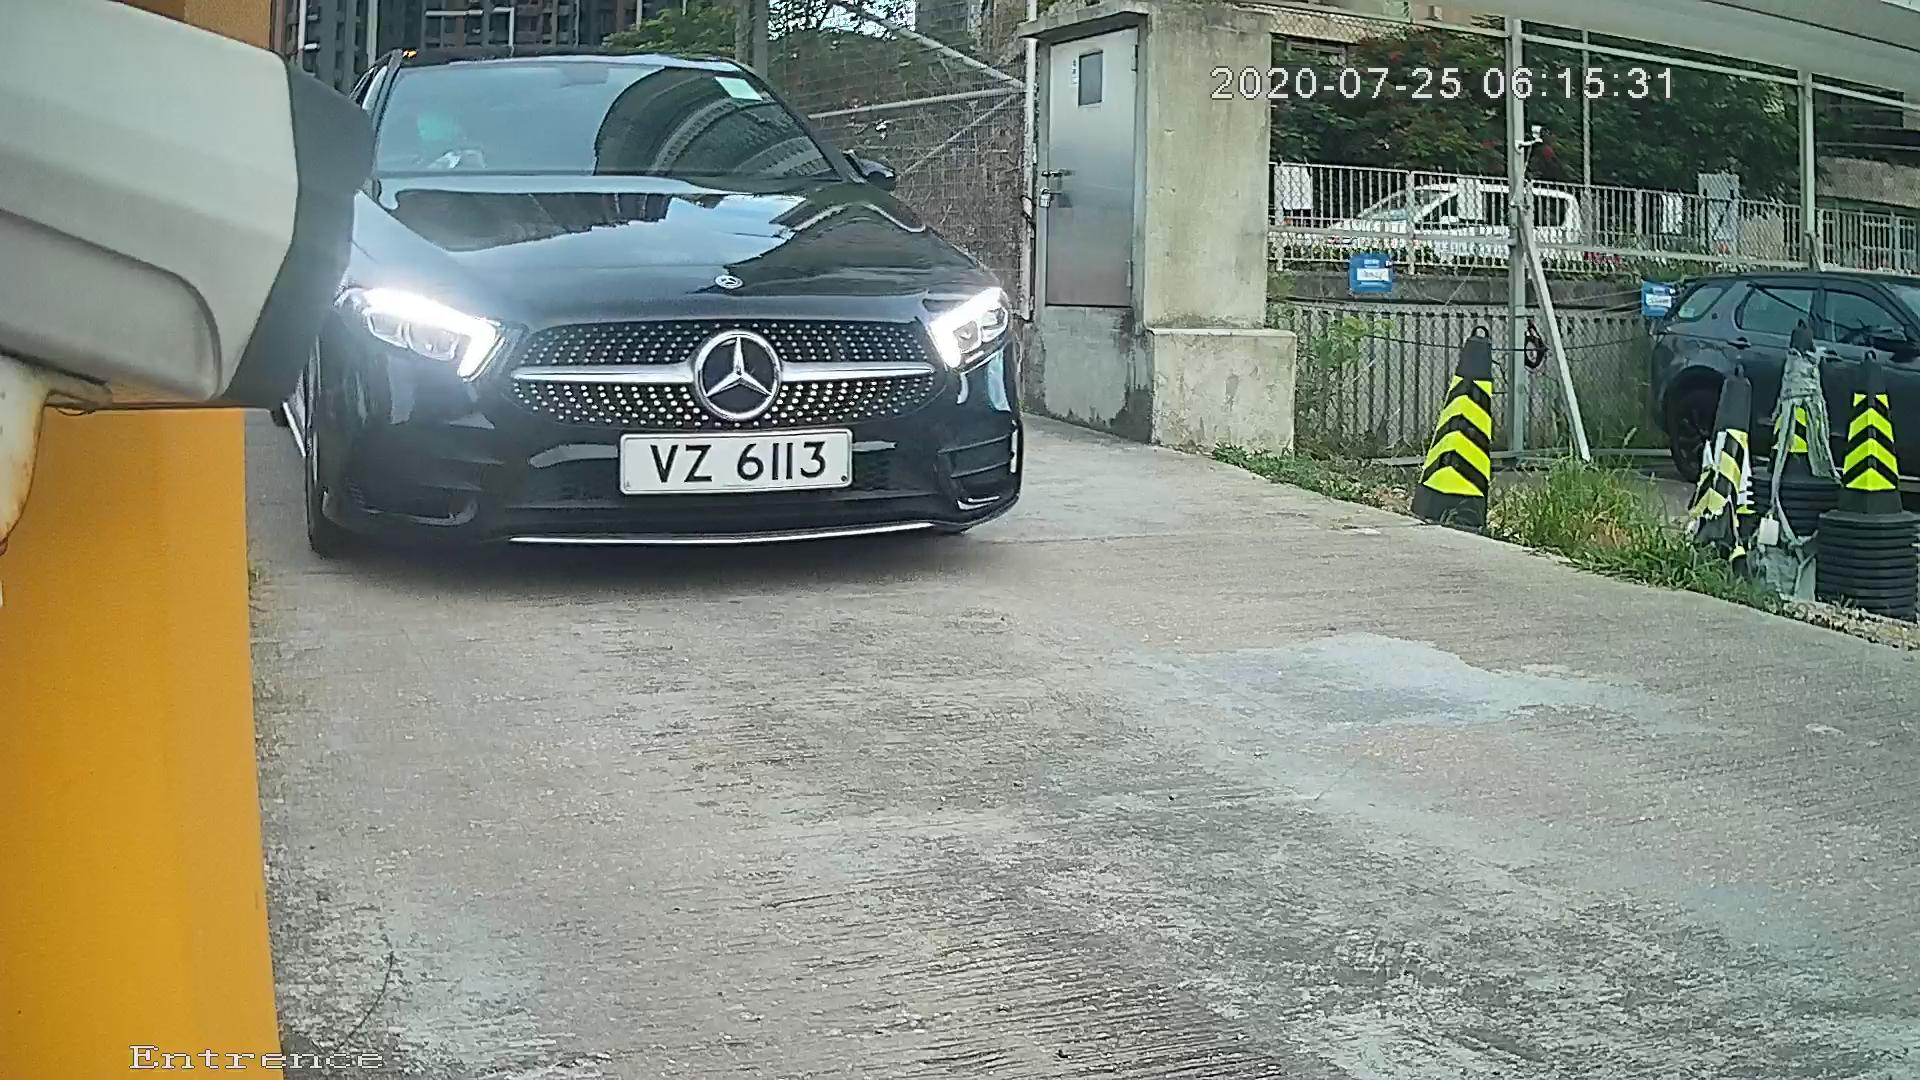License Plate: (592, 420, 866, 502)
